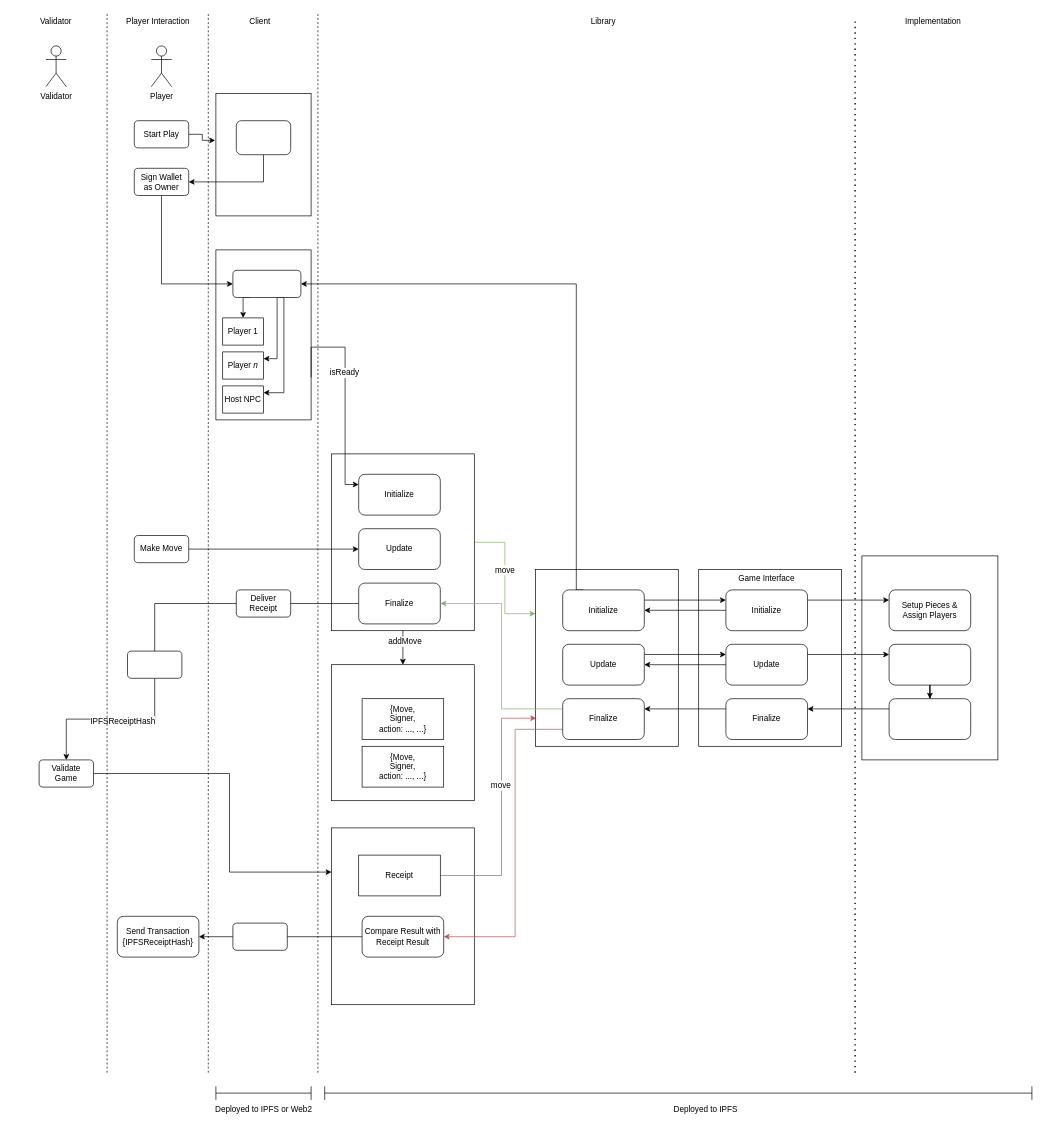
This 1044x1132 diagram has some shape labels left out. Each missing label, with the box of its shape:
Create Wallet: (236, 120, 291, 155)
Game Controller: (331, 453, 474, 631)
Game Implementation (Checkers): (861, 555, 998, 760)
Game Proxy: (535, 569, 678, 746)
Make Piece Move: (888, 644, 971, 685)
Notify Game Validated: (232, 922, 287, 950)
Player Controller: (215, 93, 311, 216)
Receipt {Version}: (331, 664, 474, 801)
Register: (232, 270, 301, 298)
Signed Actor Controller: (215, 249, 311, 420)
Store Receipt on IPFS: (127, 650, 182, 678)
Validator Controller: (331, 827, 474, 1005)
Win Condition Met: (888, 698, 971, 740)
